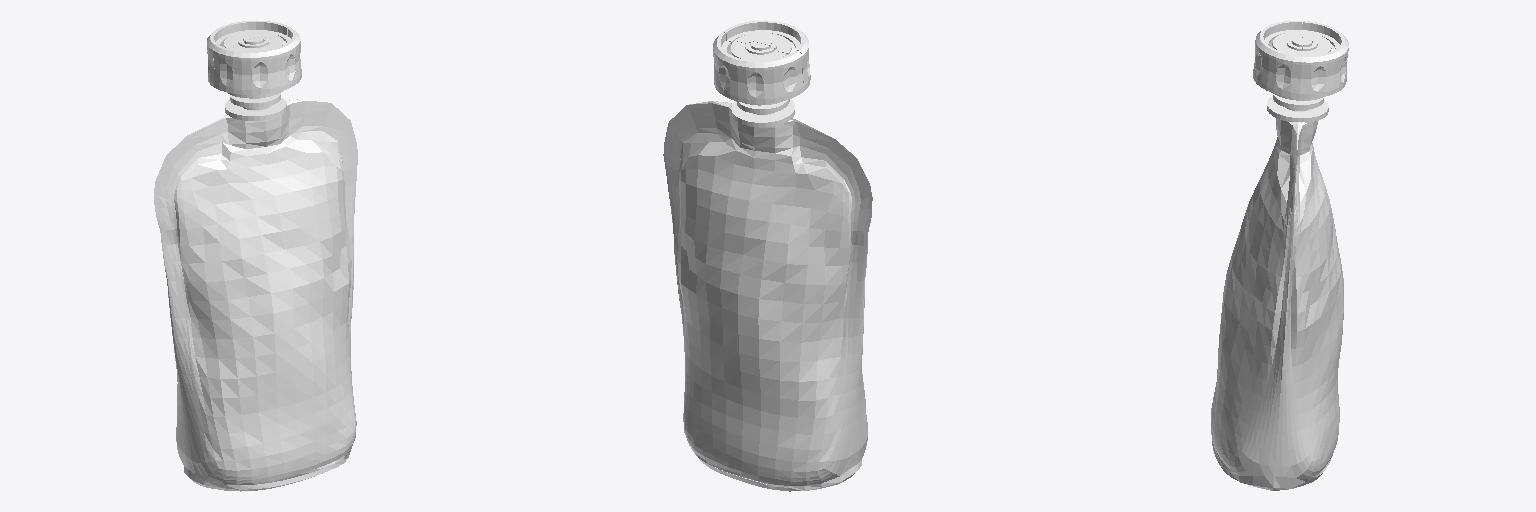
URDF robot description (model.urdf):
<robot name="model.urdf">
  <link name="baseLink">
    <contact>
      <friction_anchor/>
      <lateral_friction value="0.308"/>
      <spinning_friction value="0.001"/>
      <rolling_friction value="0.001"/>
      <contact_cfm value="0.0"/>
      <contact_erp value="1.0"/>
    </contact>
    <inertial>
       <origin rpy="0 0 0" xyz="0.0 0.0 0.0"/>
       <mass value=".00169"/>
       <inertia ixx="1e-3" ixy="0" ixz="0" iyy="1e-3" iyz="0" izz="1e-3"/>
    </inertial>
    <visual>
    <origin
        xyz="0 0 0"
        rpy="1.507 0 0" />
      <geometry>
        <mesh filename="bagged_water.stl" scale="1 1 1"/>
      </geometry>
      <material name="white">
        <color rgba="1 1 1 1"/>
      </material>
    </visual>
    <collision>
      <geometry>
        <mesh filename="bagged_water.stl" scale="1 1 1"/>
      </geometry>
    </collision>
  </link>
</robot>

--- What the picture shows (computed from the rendered views, not written in the file) ---
The picture shows the robot from 3 angles, left to right: view 1: azimuth 30°, elevation 25°; view 2: azimuth 150°, elevation 25°; view 3: azimuth 270°, elevation 25°; orthographic projection.
Robot: model.urdf — 1 links, 0 joints (none); root link baseLink; default pose: every joint at zero.
Visible links, largest first — view 1: baseLink; view 2: baseLink; view 3: baseLink.
Link boxes in pixels (<box>): baseLink: <box>154,20,357,491</box>; baseLink: <box>663,20,872,491</box>; baseLink: <box>1211,20,1348,490</box>.
Bounding box of the posed robot: 0.0772 × 0.0455 × 0.1529 m (x, y, z).
Meshes: 1 distinct files referenced, 1 mesh visuals loaded (1 binary STL).